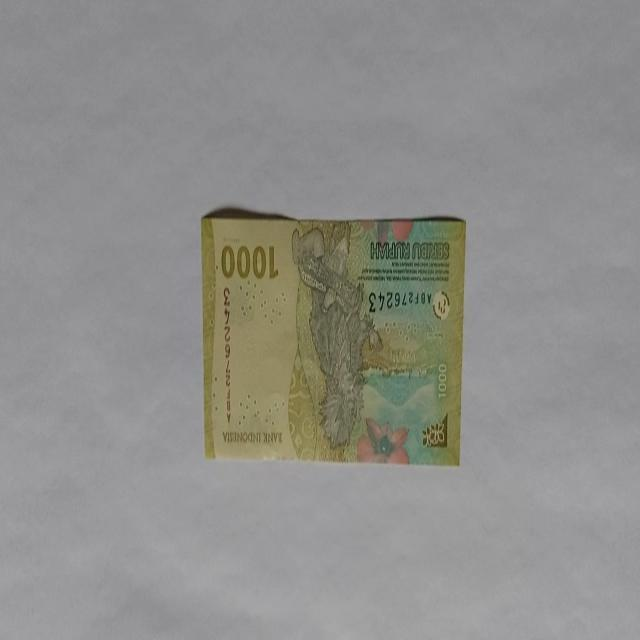seribu rupiah kertas: (200, 210, 467, 466)
